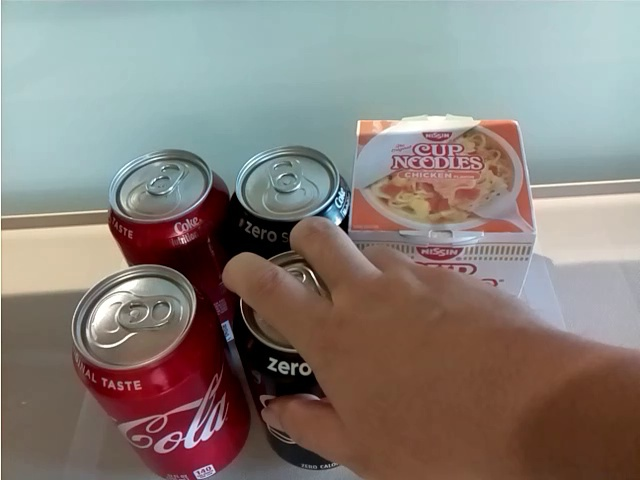cocacola: (66, 264, 253, 480), (106, 147, 231, 345)
cocacola-zero: (240, 245, 364, 474), (233, 143, 351, 247)
hand: (220, 215, 637, 480)
noodles: (348, 114, 538, 304)
